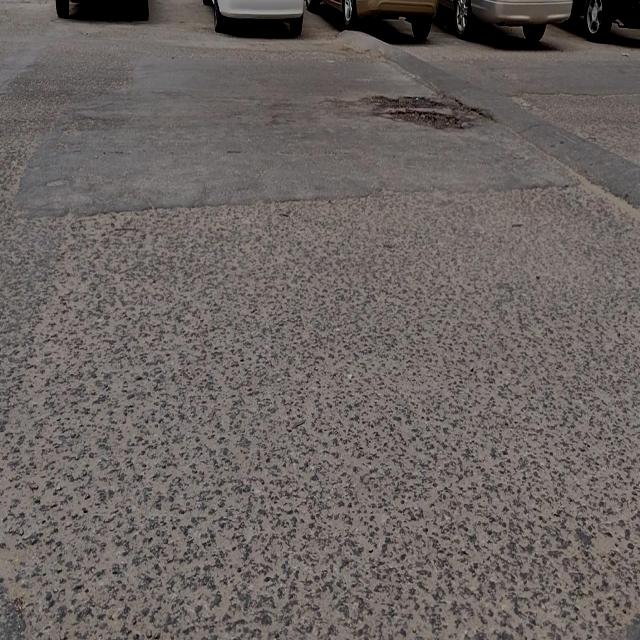Potholes: (373, 94, 481, 134)
